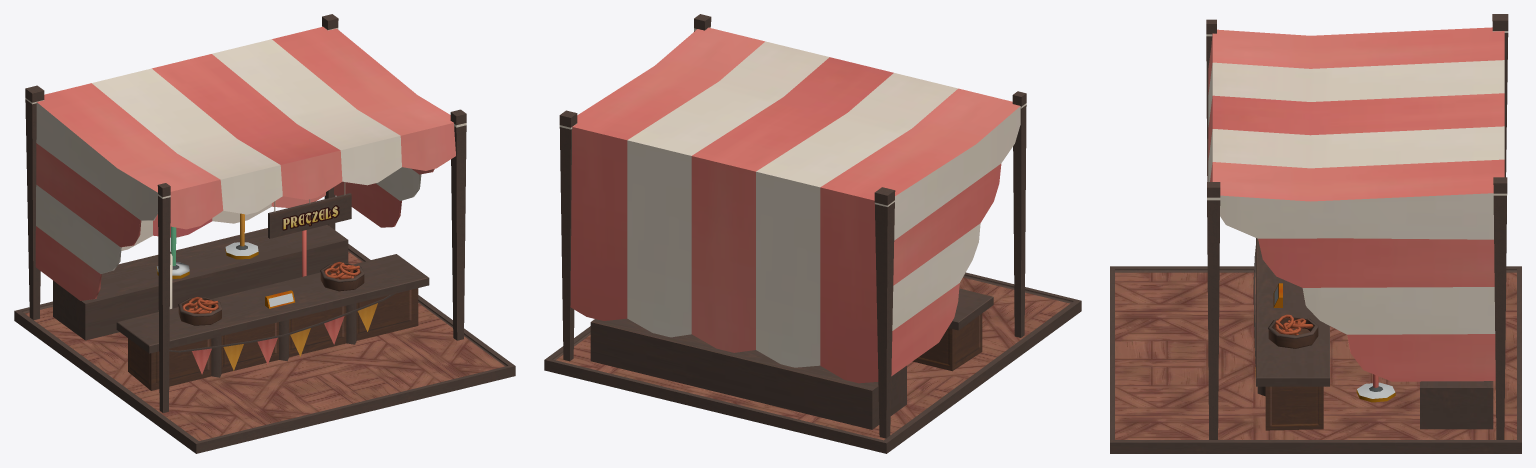
The model's file is pm-booth-pretzelgame.glb.
The picture shows the model from 3 angles, left to right: view 1: azimuth 30°, elevation 25°; view 2: azimuth 150°, elevation 25°; view 3: azimuth 270°, elevation 25°; orthographic projection. The views are drawn at different scales.
Parts seen in each view (by area): view 1: Booth_Pretzelgame; view 2: Booth_Pretzelgame; view 3: Booth_Pretzelgame.
Part boxes in pixels (box(x1,y1,x2,y2)): Booth_Pretzelgame: box(14, 14, 515, 453); Booth_Pretzelgame: box(544, 14, 1081, 453); Booth_Pretzelgame: box(1110, 14, 1521, 453).
Size of what is drawn, in the model's own units: 6.6 by 4.65 by 6.51.
7 materials, 7 textured.
